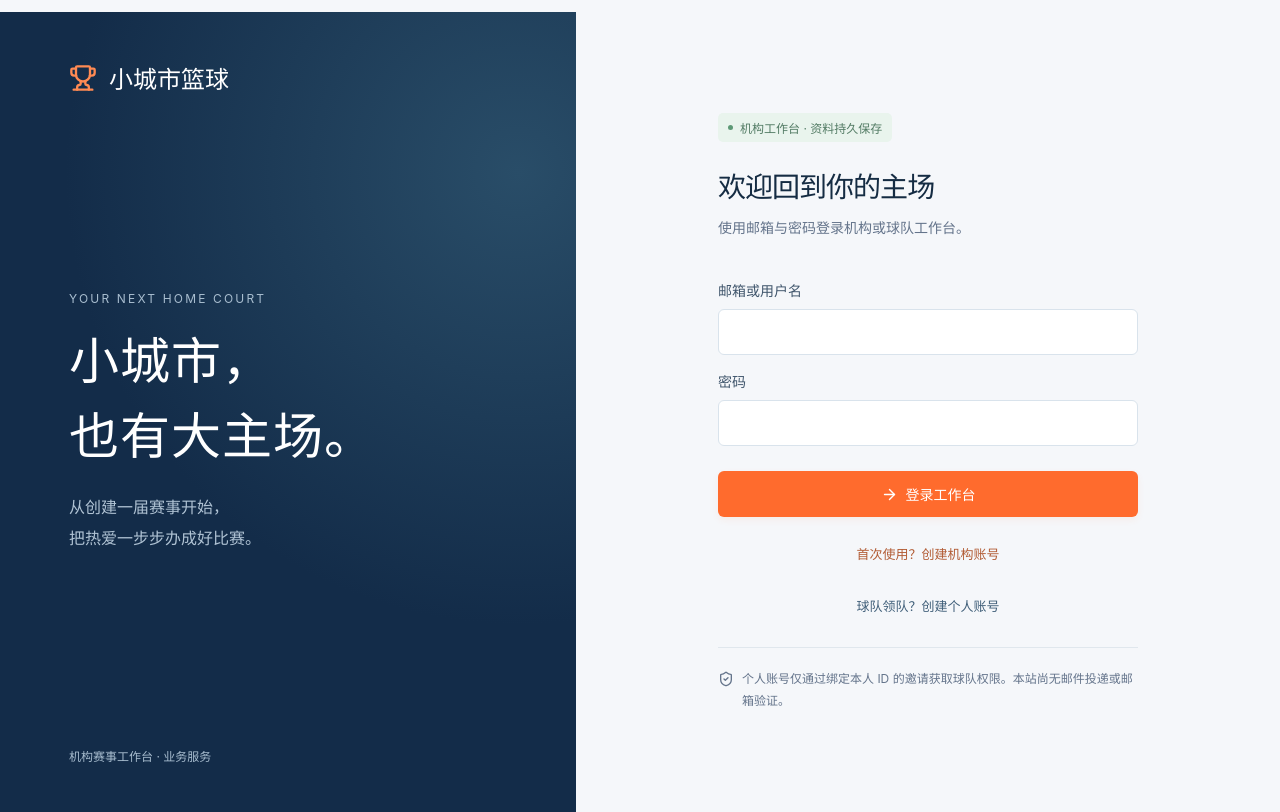
Test: API模式登录与机构边界 › 严格模式中过期的启动检查401不会清掉刚登录的新身份
Expected: the heading "欢迎回到你的主场" is shown, [718,170,934,204]
Type "owner@example.test" into the field labelled "邮箱或用户名".
click(928, 332); type("owner@example.test")  # box [718,309,1138,355]
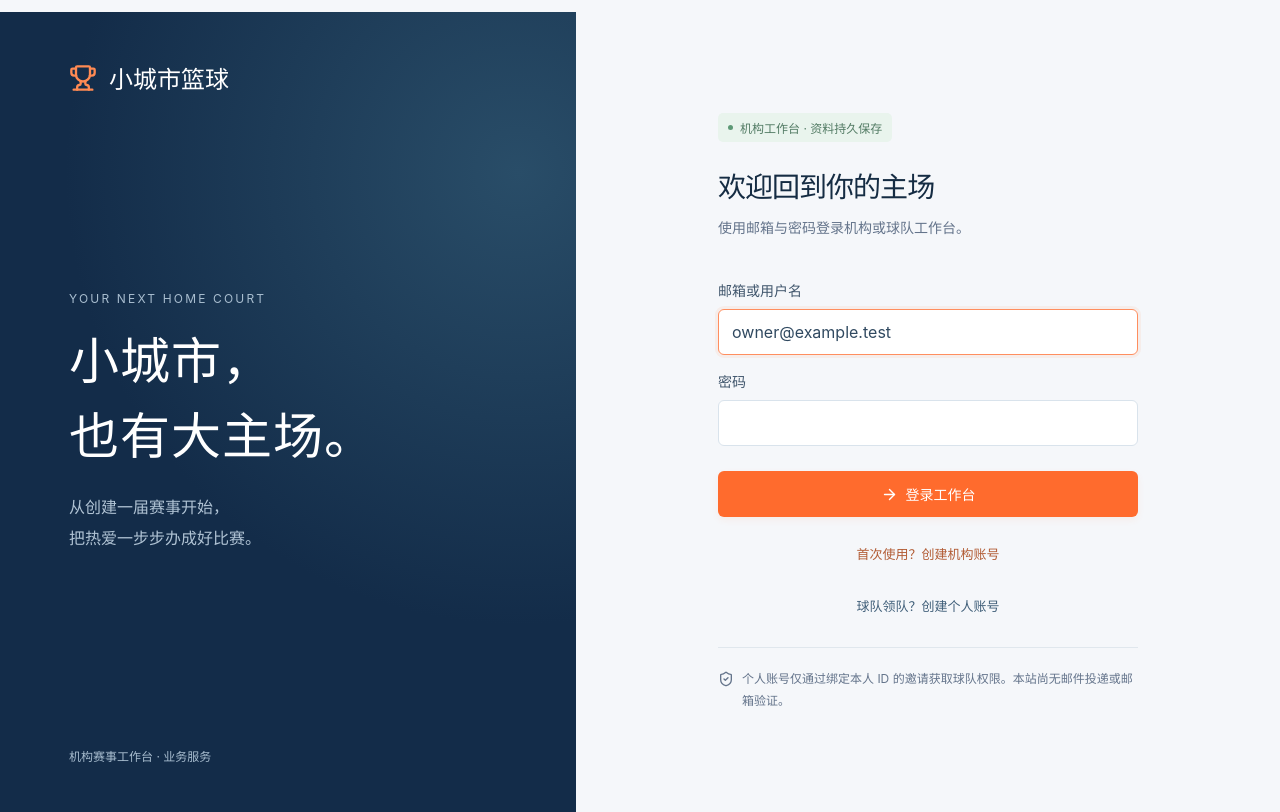
Type "correct-password" into the password field labelled "密码".
click(928, 423); type("correct-password")  # box [718,400,1138,446]
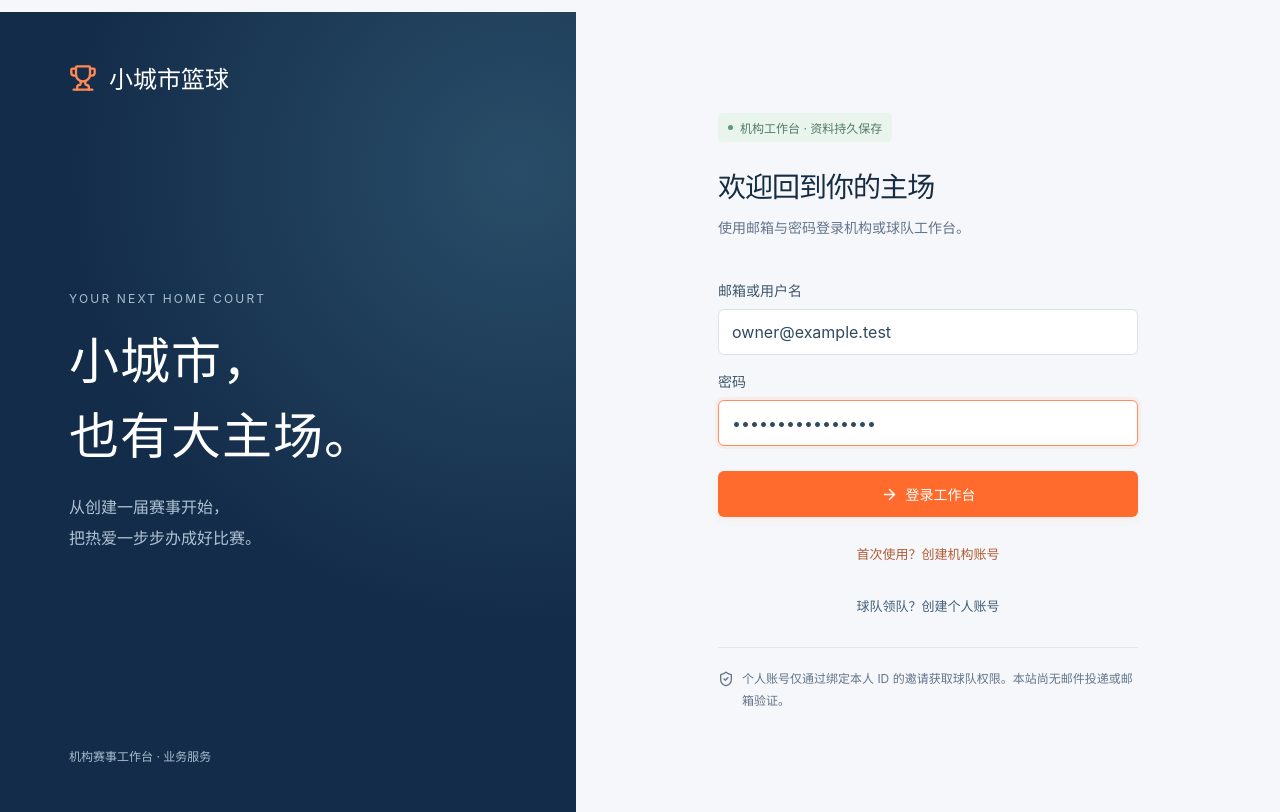
Click the button "登录工作台".
click(928, 494)  # box [718,471,1138,517]
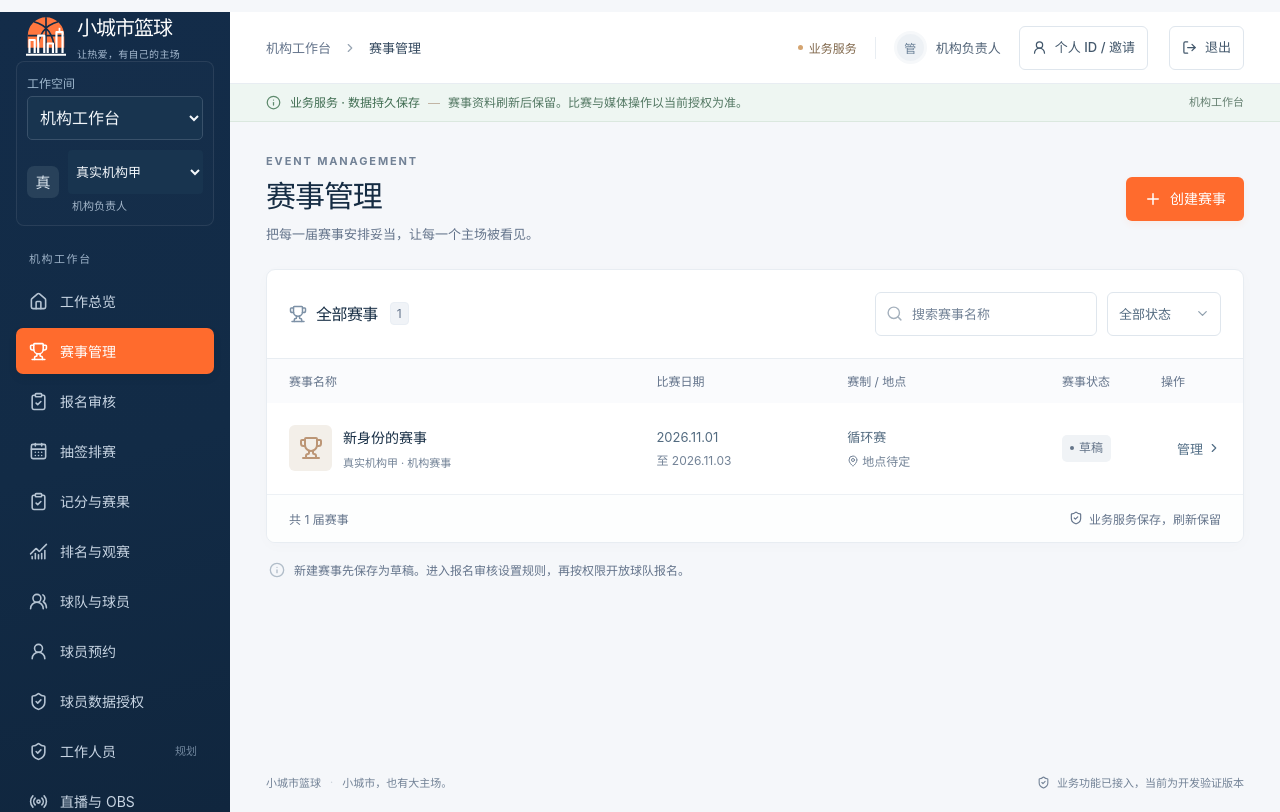
Now the link "新身份的赛事" is shown, box [343,429,427,446]
Now the heading "欢迎回到你的主场" is gone
